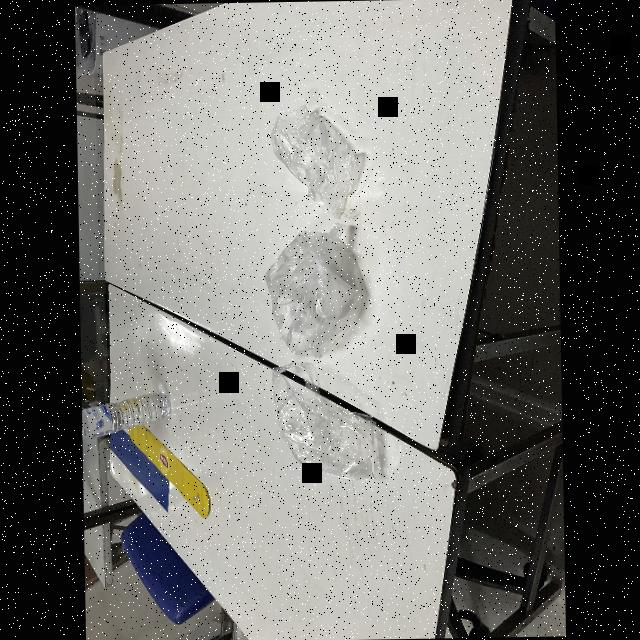plastic_bag: (262, 216, 376, 368), (273, 358, 387, 498)
scrap_plastic: (255, 92, 369, 228)
